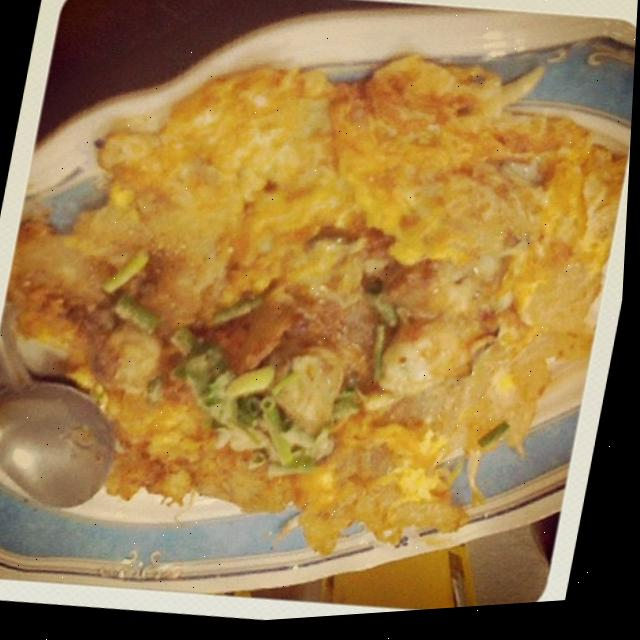炸货点心: (0, 0, 637, 627)
蛋糕甜品: (0, 0, 637, 627)
